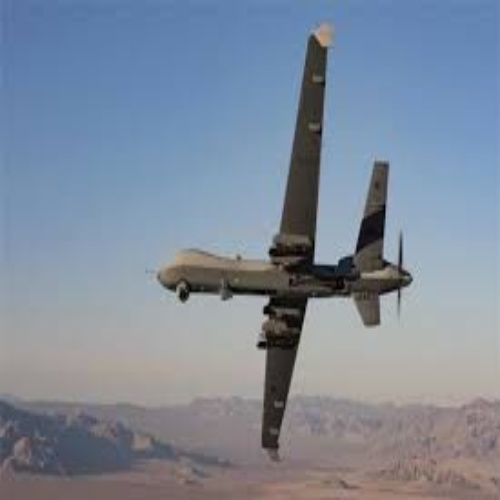uav340: (144, 22, 414, 458)
